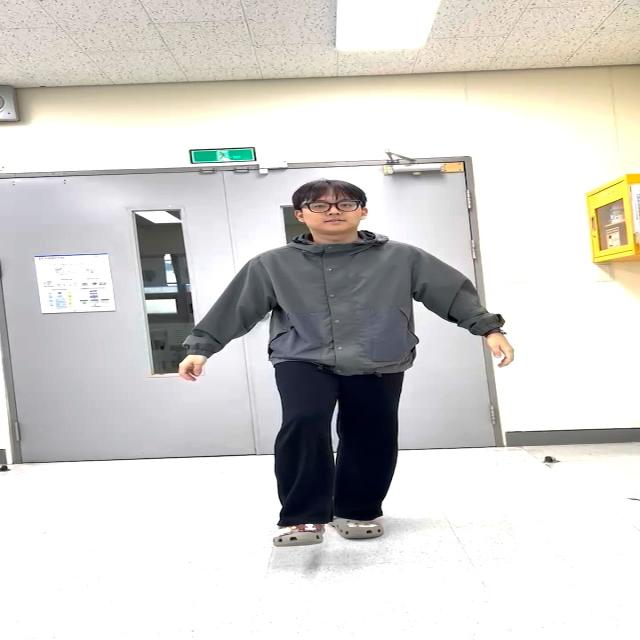leg: (238, 354, 346, 562)
